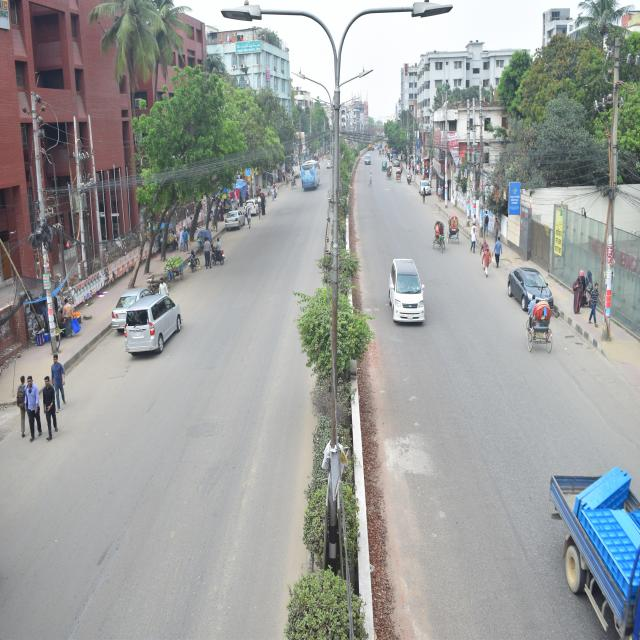bus: (297, 156, 321, 203)
car: (497, 252, 564, 325), (378, 247, 427, 346), (115, 296, 192, 358), (92, 278, 160, 340), (245, 193, 267, 228), (222, 201, 248, 226), (416, 173, 439, 194), (323, 152, 336, 170), (362, 153, 375, 170)
pickup-van: (531, 454, 640, 640)
